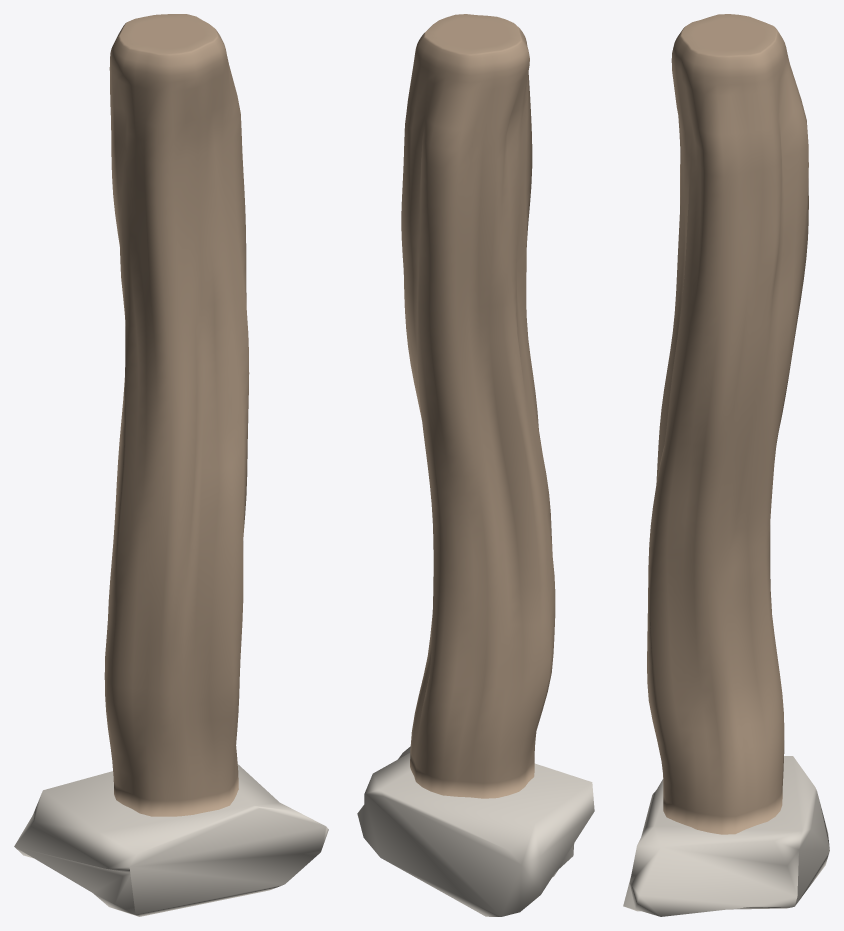
File: bagana-f2-3x9x3-v2.glb
The picture shows the model from 3 angles, left to right: view 1: azimuth 30°, elevation 25°; view 2: azimuth 150°, elevation 25°; view 3: azimuth 270°, elevation 25°; orthographic projection. The views are drawn at different scales.
Visible parts, largest first — view 1: bagana_wood, bagana_stone; view 2: bagana_wood, bagana_stone; view 3: bagana_wood, bagana_stone.
Part boxes in pixels (x1,y1,x2,y2): bagana_wood: [104, 14, 249, 816]; bagana_stone: [14, 764, 328, 916]; bagana_wood: [401, 14, 555, 798]; bagana_stone: [357, 746, 594, 916]; bagana_wood: [647, 14, 808, 834]; bagana_stone: [623, 756, 829, 916].
Bounding box in the file's own units: 0.6304 × 2.25 × 0.4895.
